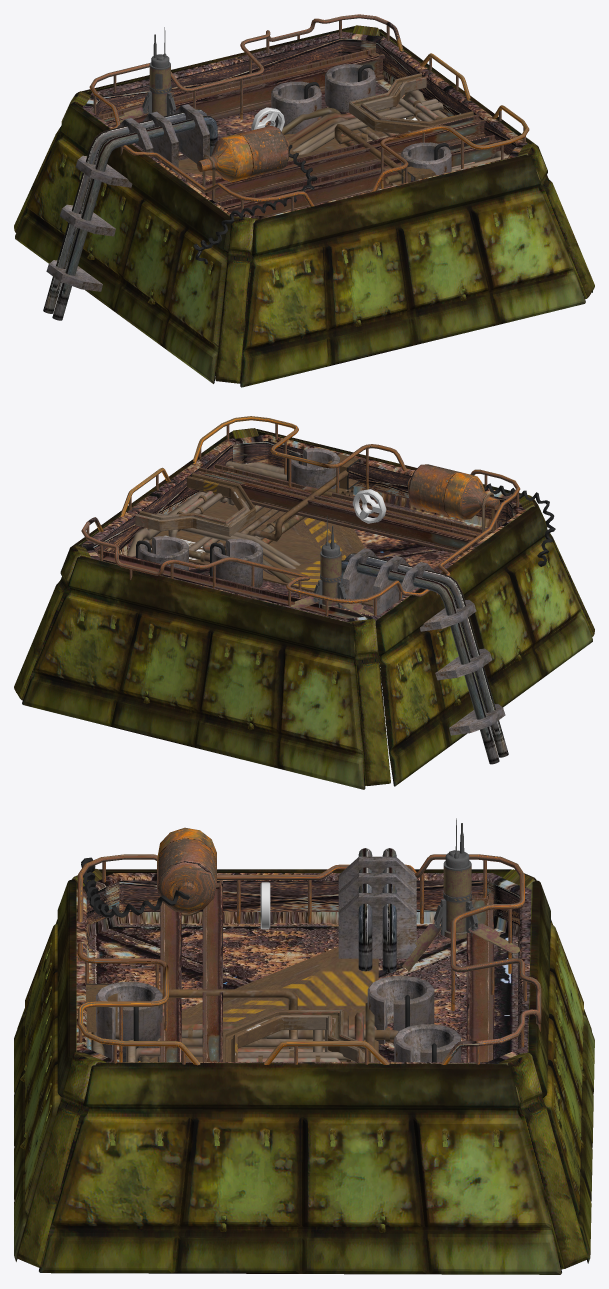
File: static.fbx
3 views of the same model, one above another, from view 1: azimuth 30°, elevation 25°; view 2: azimuth 150°, elevation 25°; view 3: azimuth 270°, elevation 25° (orthographic). The views are drawn at different scales.
Parts seen in each view (by area): view 1: Plane_16, Plane_8, Extrude_2, SM_obj_PipeWall, Cube_2_2, Sweep_9, Cube_1, Sweep, Cube_10, Plane_6, drum_remesh, Sweep_5 (+16 smaller); view 2: Plane_4, Plane_8, Extrude_2, SM_obj_PipeWall, Cube_2_2, Sweep, Sweep_9, Plane, drum_remesh, Sweep_5, Cube_1, Plane_10 (+15 smaller); view 3: Plane_12, Extrude_2, SM_obj_PipeWall, Plane_4, Plane_16, Sweep, Plane_10, Plane_14, drum_remesh, warning_device_051220, Cube_1, Sweep_5 (+11 smaller).
Part boxes in pixels (<box>): Plane_16: <box>240,155,585,387</box>; Plane_8: <box>15,102,231,383</box>; Extrude_2: <box>82,31,527,219</box>; SM_obj_PipeWall: <box>178,90,509,186</box>; Cube_2_2: <box>192,115,485,202</box>; Sweep_9: <box>43,109,217,320</box>; Cube_1: <box>97,49,384,127</box>; Sweep: <box>89,14,529,206</box>; Cube_10: <box>216,135,501,216</box>; Plane_6: <box>215,216,257,383</box>; drum_remesh: <box>197,126,289,182</box>; Sweep_5: <box>349,73,477,133</box>; Plane_4: <box>22,556,365,789</box>; Plane_8: <box>375,506,592,786</box>; Extrude_2: <box>81,434,525,622</box>; SM_obj_PipeWall: <box>127,454,381,681</box>; Cube_2_2: <box>192,467,485,554</box>; Sweep: <box>81,416,520,603</box>; Sweep_9: <box>341,553,508,764</box>; Plane: <box>349,619,390,785</box>; drum_remesh: <box>407,464,499,519</box>; Sweep_5: <box>135,473,255,536</box>; Cube_1: <box>97,549,372,619</box>; Plane_10: <box>14,545,90,700</box>; Plane_12: <box>39,1062,561,1274</box>; Extrude_2: <box>76,873,531,1063</box>; SM_obj_PipeWall: <box>86,947,398,1062</box>; Plane_4: <box>528,880,594,1263</box>; Plane_16: <box>14,879,76,1261</box>; Sweep: <box>77,854,541,1065</box>; Plane_10: <box>499,1053,587,1269</box>; Plane_14: <box>16,1052,105,1268</box>; drum_remesh: <box>157,827,216,913</box>; warning_device_051220: <box>402,818,519,971</box>; Cube_1: <box>466,892,493,1062</box>; Sweep_5: <box>222,1010,373,1062</box>.
Bounding box in the file's own units: 625 × 332 × 571.
Materials: 10 (10 with a texture image).
